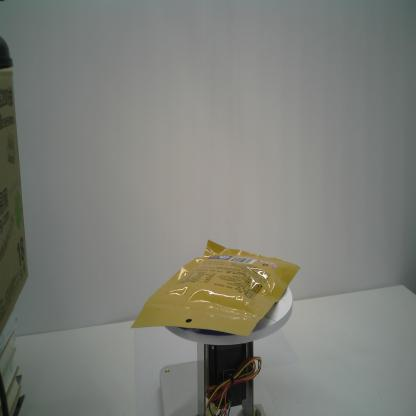Dried Fruit: (129, 239, 301, 338)
